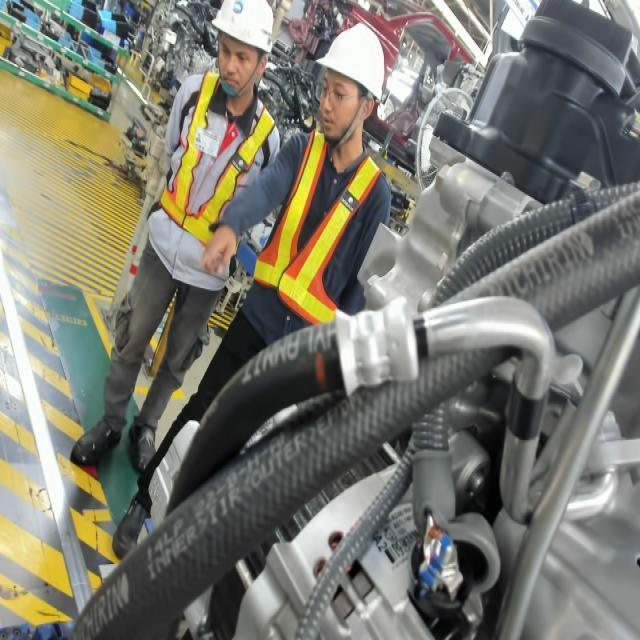Alternator-BA2: (369, 524, 392, 560)
Hose Discharge-HT: (505, 376, 550, 452)
